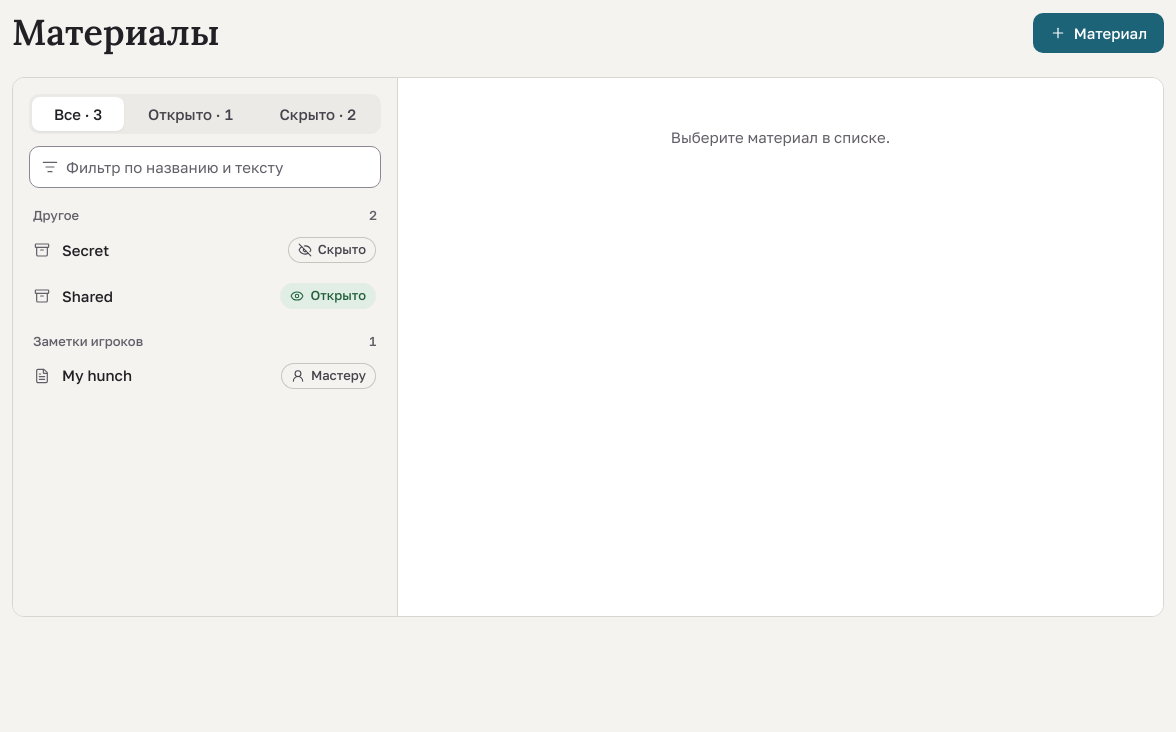
Test case: ElementsPage › groups the master list by type with counts and filters by access
The image size is (1176, 732).
Expected: the heading "Другое 2" is shown, [25,208,385,224]
Expected: the link "My hunch Мастеру" is shown, [34,363,376,389]
Step 1. Click the radio button labelled "Открыто · 1" → [191, 114], box [148,105,234,123]
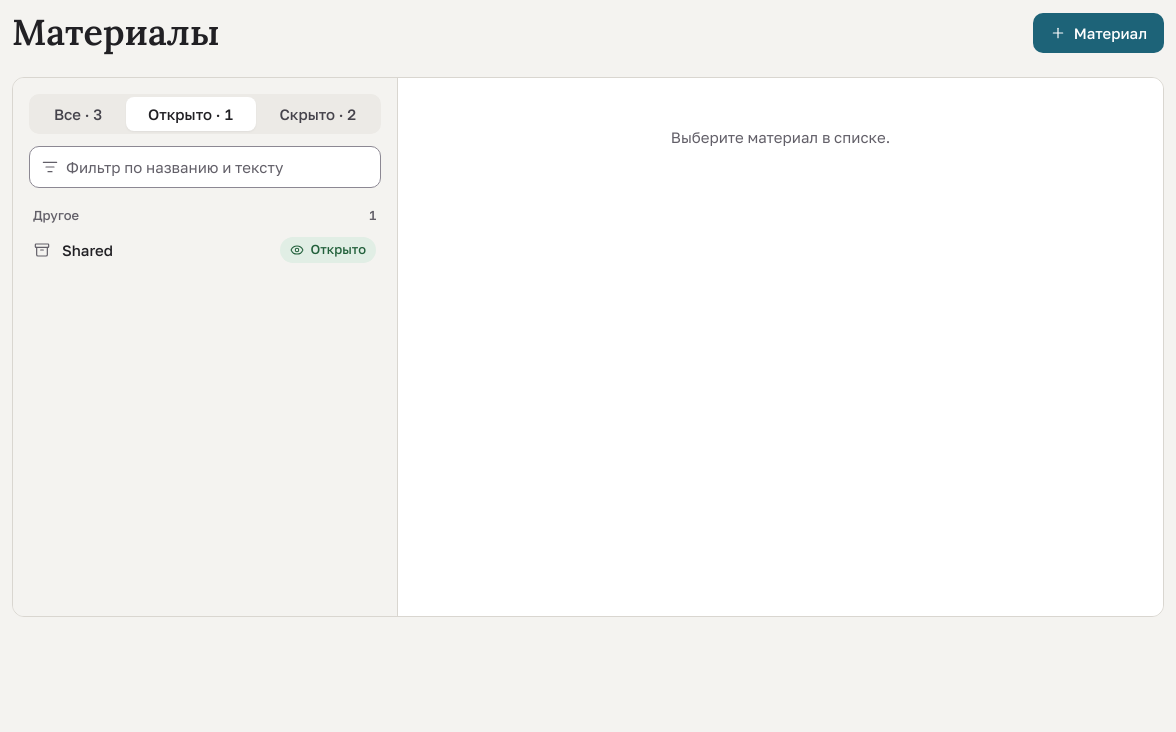
Expected: the links read "SharedОткрыто", in this order, [34,237,376,263]
Step 2. Click the radio button labelled "Скрыто · 2" → [318, 114], box [279,105,356,123]
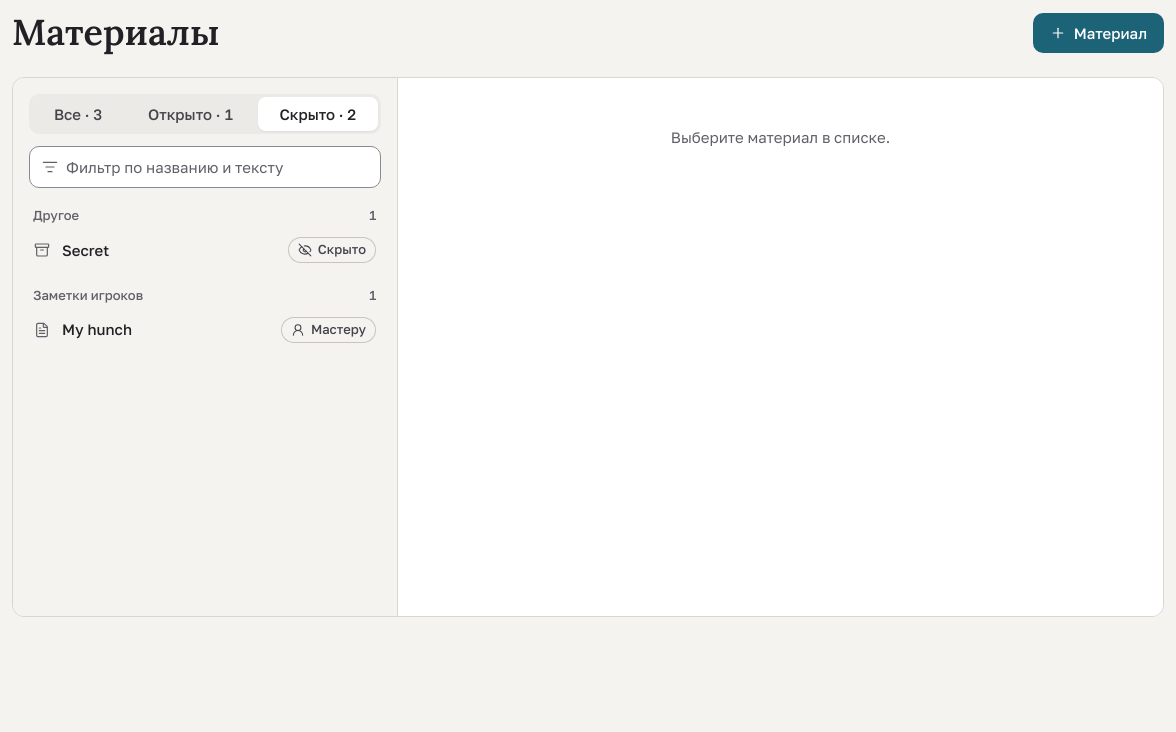
Step 3. Type "tower" into the search field with placeholder "Фильтр по названию и тексту" → [223, 167], box [66,147,380,187]
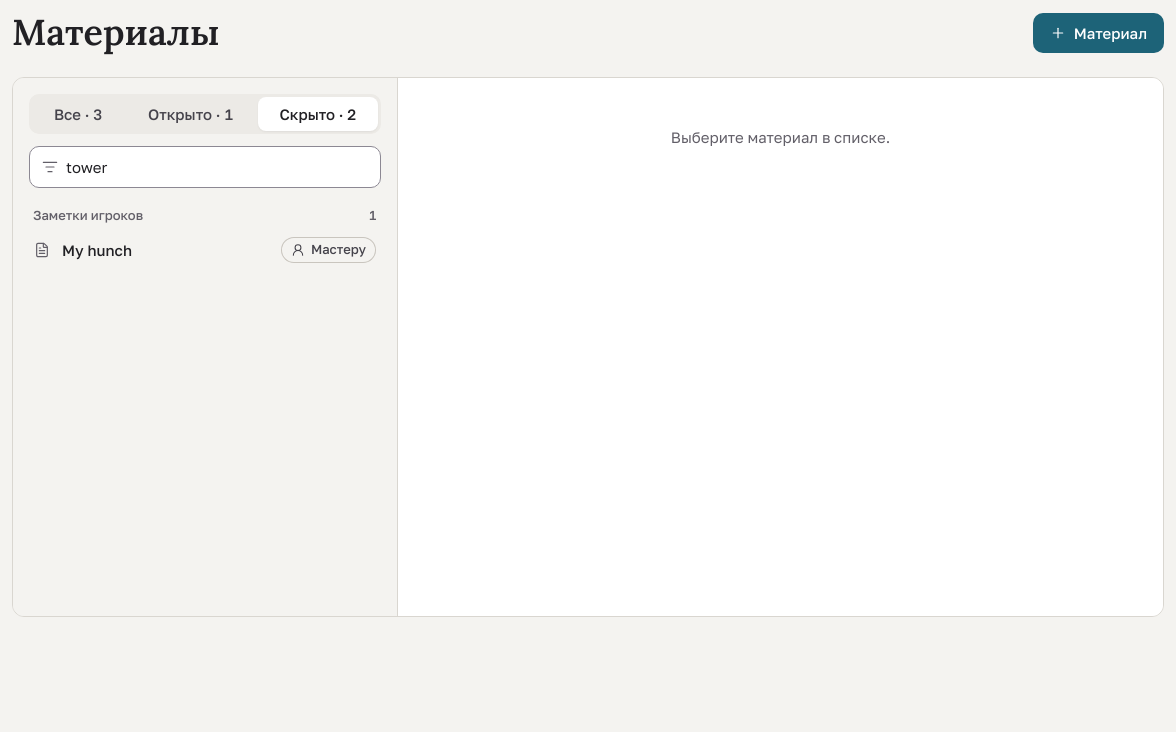
Expected: the links read "My hunchМастеру", in this order, [34,237,376,263]
